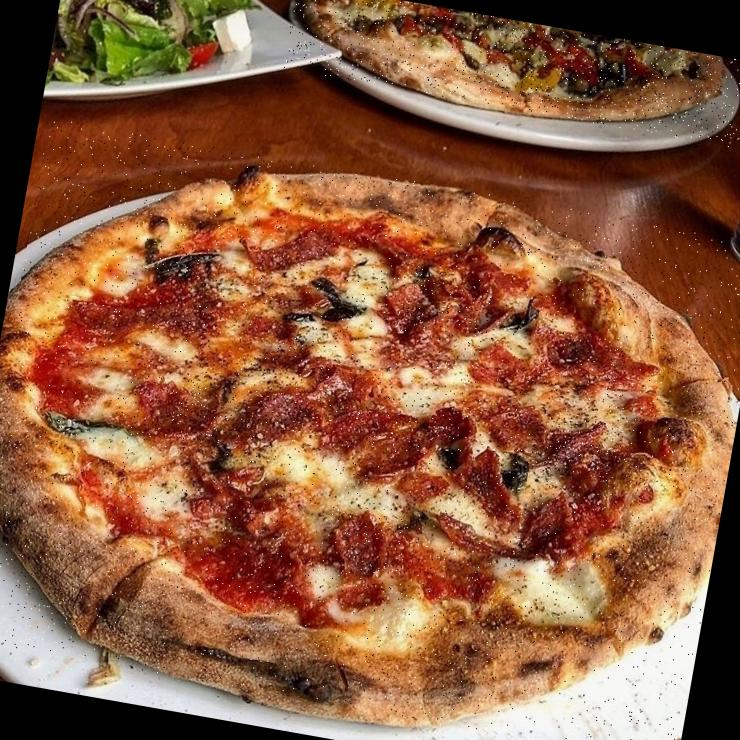Ham: (239, 350, 403, 452), (196, 480, 308, 590), (370, 394, 486, 480), (392, 265, 496, 350), (126, 371, 234, 451), (319, 506, 410, 594), (534, 470, 604, 577), (526, 410, 624, 484), (452, 446, 530, 529)
Pizza: (0, 116, 740, 740), (282, 0, 740, 149)
Tomatoes: (384, 4, 465, 50), (536, 40, 609, 82)
